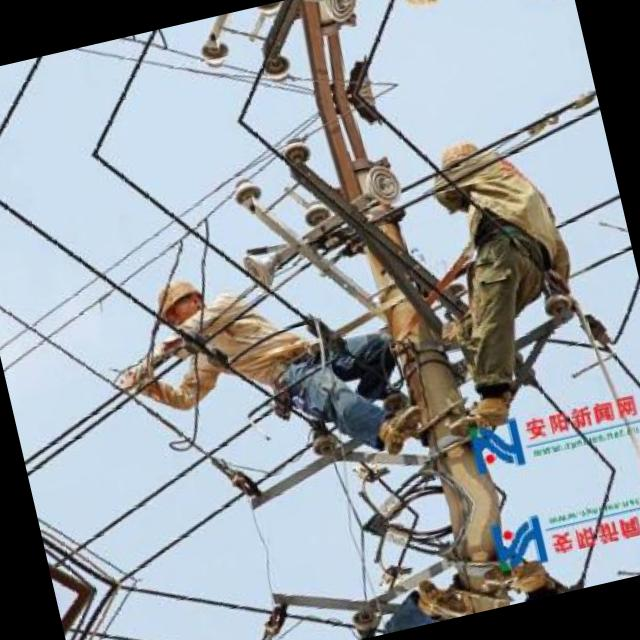helmet: (151, 272, 214, 340)
